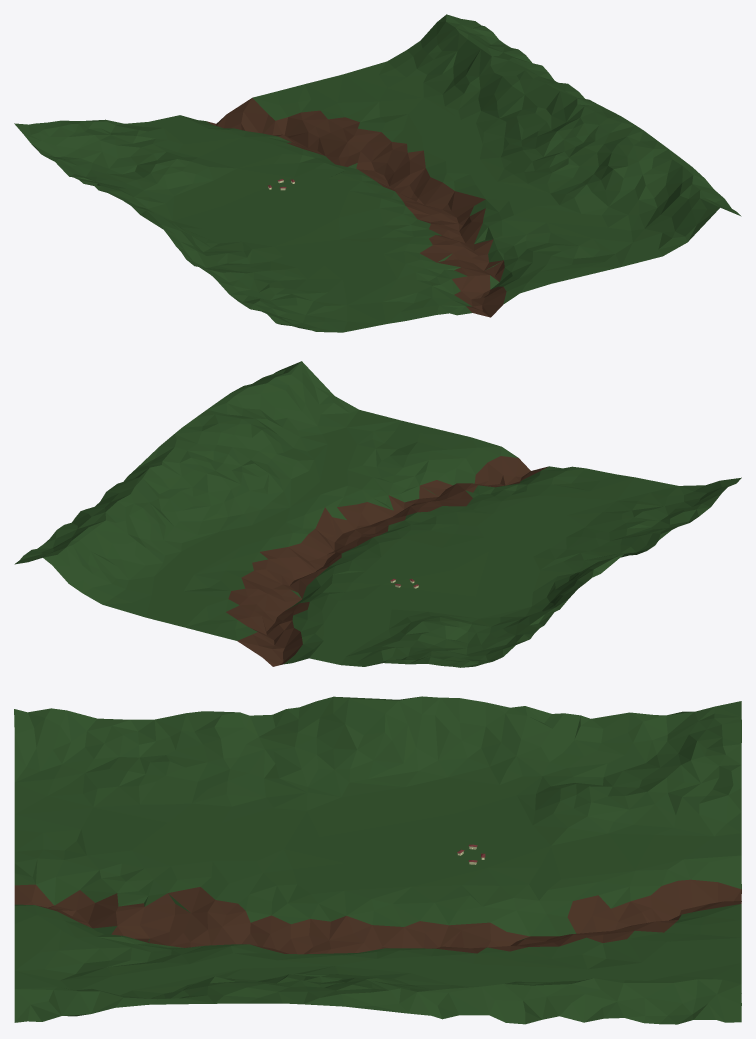
File: map_shooter12.glb
The picture shows the model from 3 angles, top to bottom: view 1: azimuth 30°, elevation 25°; view 2: azimuth 150°, elevation 25°; view 3: azimuth 270°, elevation 25°; orthographic projection. The views are drawn at different scales.
Parts seen in each view (by area): view 1: Landscape; view 2: Landscape; view 3: Landscape.
Boxes of the visible parts, box(x1,y1,x2,y2) form: Landscape: box(14, 14, 741, 332); Landscape: box(14, 361, 741, 667); Landscape: box(14, 696, 741, 1024).
Bounding box in the file's own units: 2 × 0.2259 × 2.
